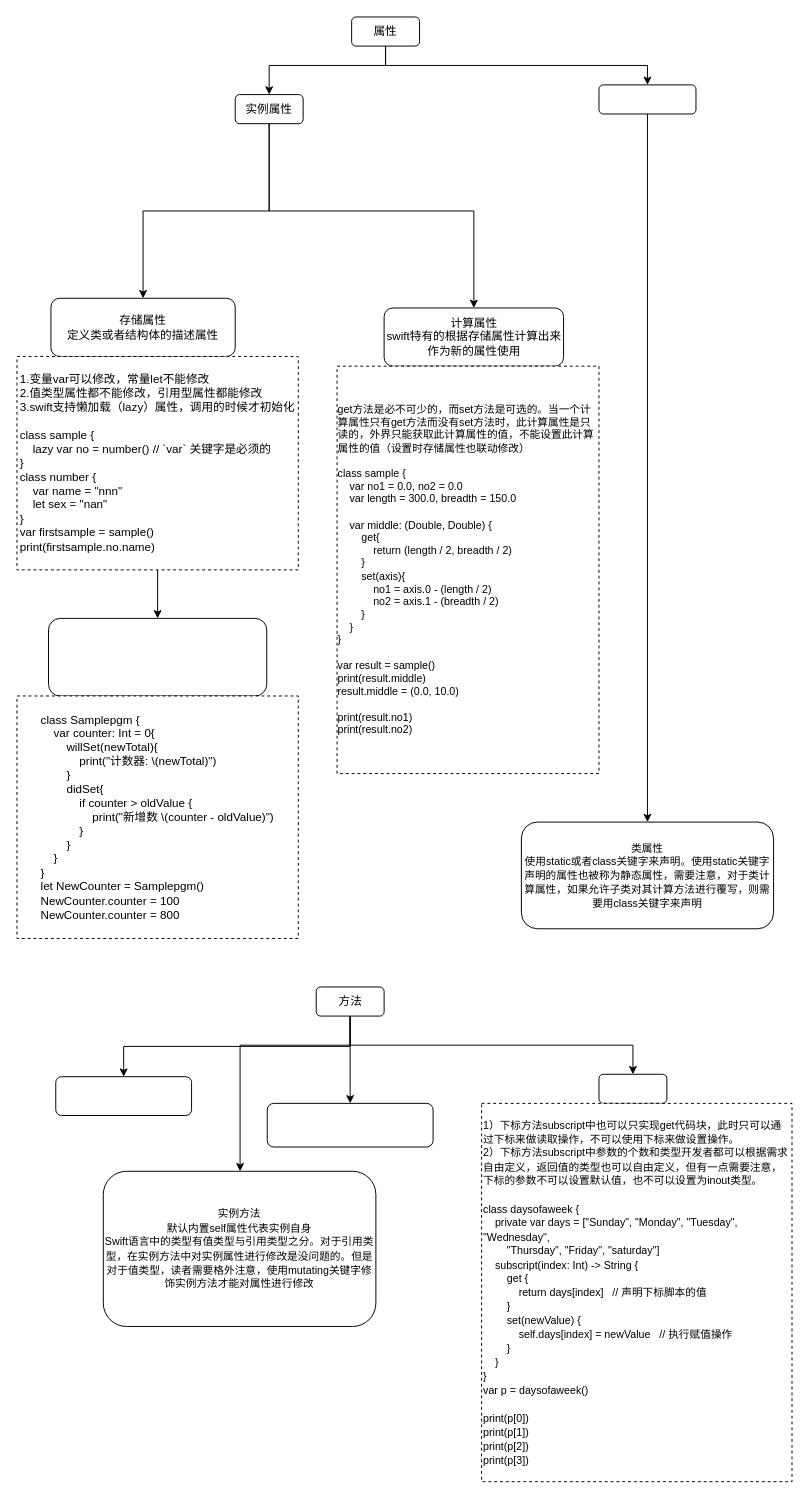
This 809x1499 diagram has some shape labels left out. The centre of each missing label's shape, as x and y in pixels:
"下标方法" belongs at (632,1088).
"属性监听器 存储属性可以设置， 初始化后从第2次为属性赋值开始， 属性监听器才会被调用" belongs at (157,656).
"构造方法 （无func 名称为init）" belongs at (123,1096).
"类属性 （静态属性）" belongs at (647,99).
"类方法 static和class关键字来声明的" belongs at (349,1124).
